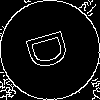D: (25, 25, 79, 72)
